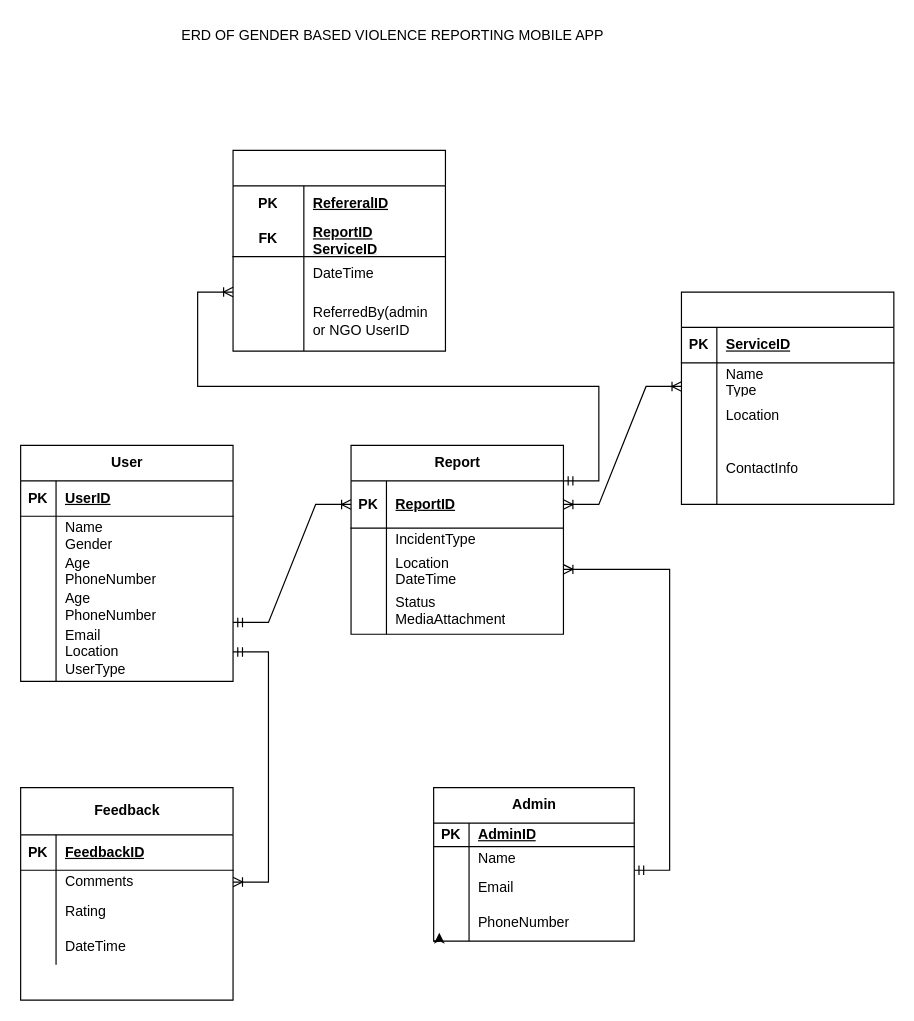
This 914x1021 diagram has some shape labels left out. The shapes that lost their labels are listed below. From the top down, each one's box as (x1, y1, x2, y2) in pixels, then its label:
(232, 149, 445, 351): Referral
(680, 291, 894, 504): SupportService
